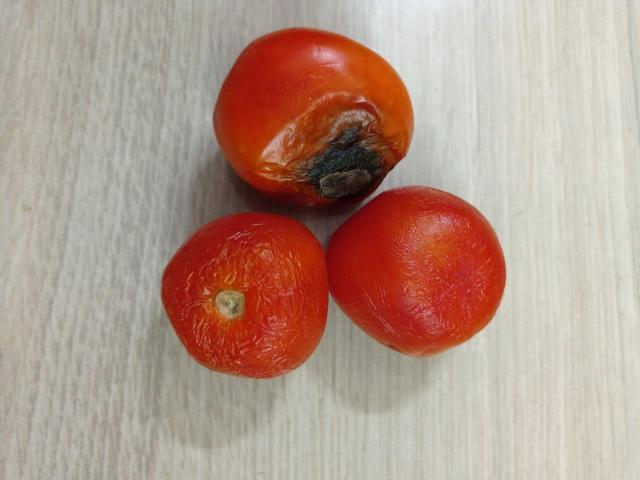defect: (213, 25, 417, 213), (159, 208, 332, 382)
